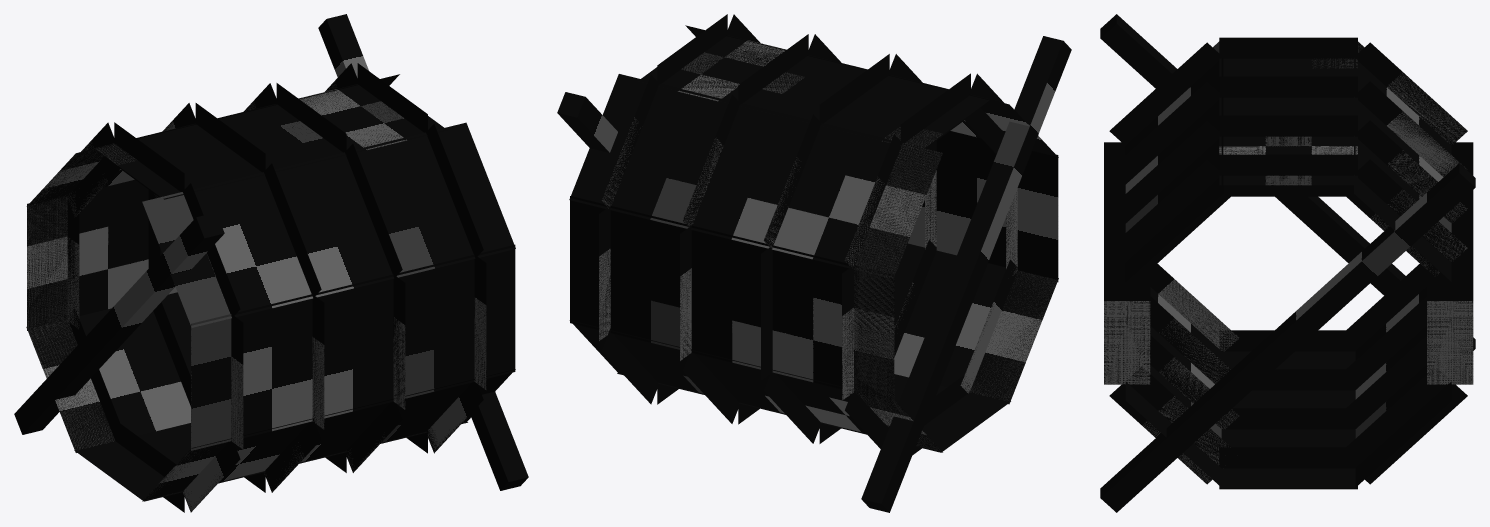
File: barbed_wire_wither.obj
The picture shows the model from 3 angles, left to right: view 1: azimuth 30°, elevation 25°; view 2: azimuth 150°, elevation 25°; view 3: azimuth 270°, elevation 25°; orthographic projection.
Visible parts, largest first — view 1: cube; view 2: cube; view 3: cube.
Part boxes in pixels (left/top/right/bottom): cube: left=14, top=14, right=528, bottom=512; cube: left=557, top=14, right=1071, bottom=512; cube: left=1100, top=14, right=1475, bottom=512.
Size of the model in its own units: 1 by 1.03 by 1.02.
